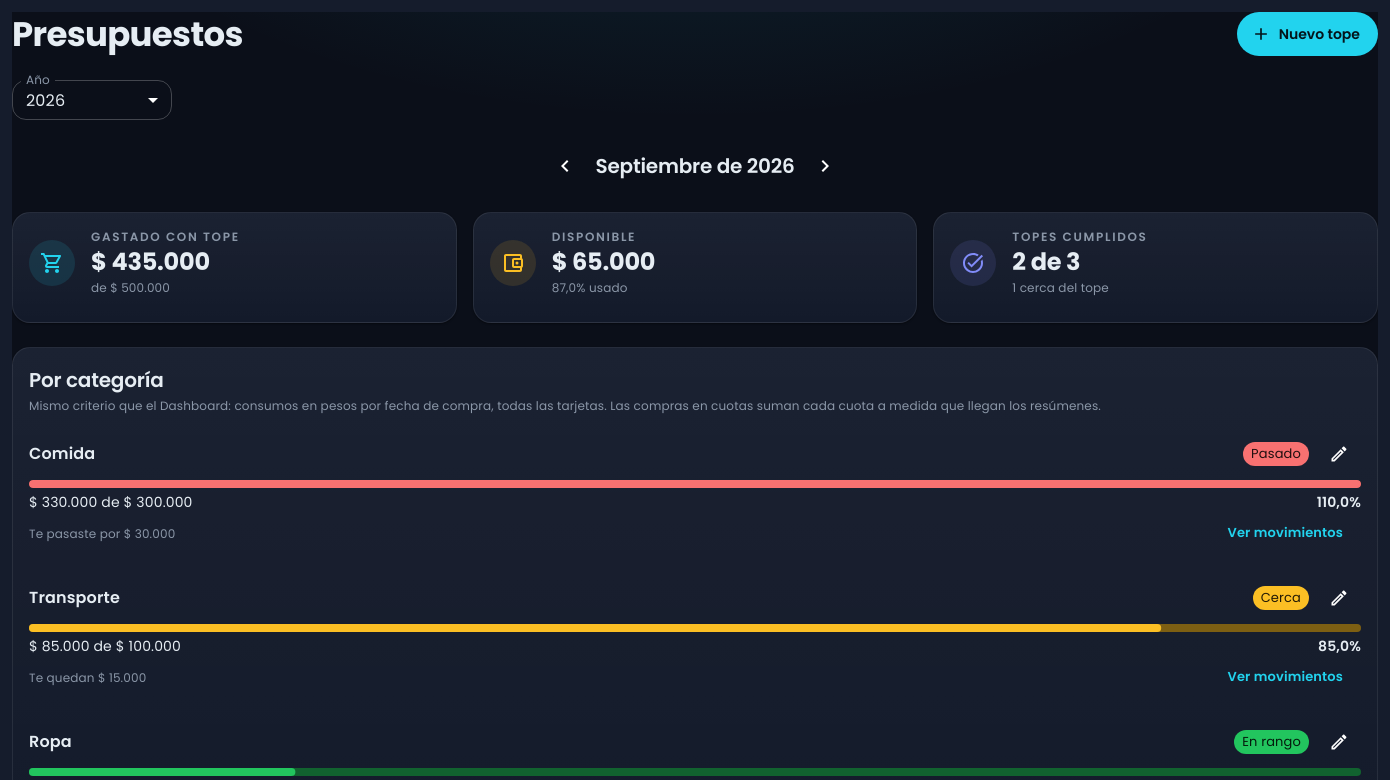
BudgetsPage › «mes anterior» pasa al mes de antes y se frena en el primero
The width and height of the screenshot is (1390, 780).
Expected: the text "Septiembre de 2026" is shown, x1=595 y1=150 x2=795 y2=182
What coordinates should you click on to do the following:
click the button named "mes anterior"
I would click on:
 (565, 166)
Its box is x1=543 y1=144 x2=587 y2=188.
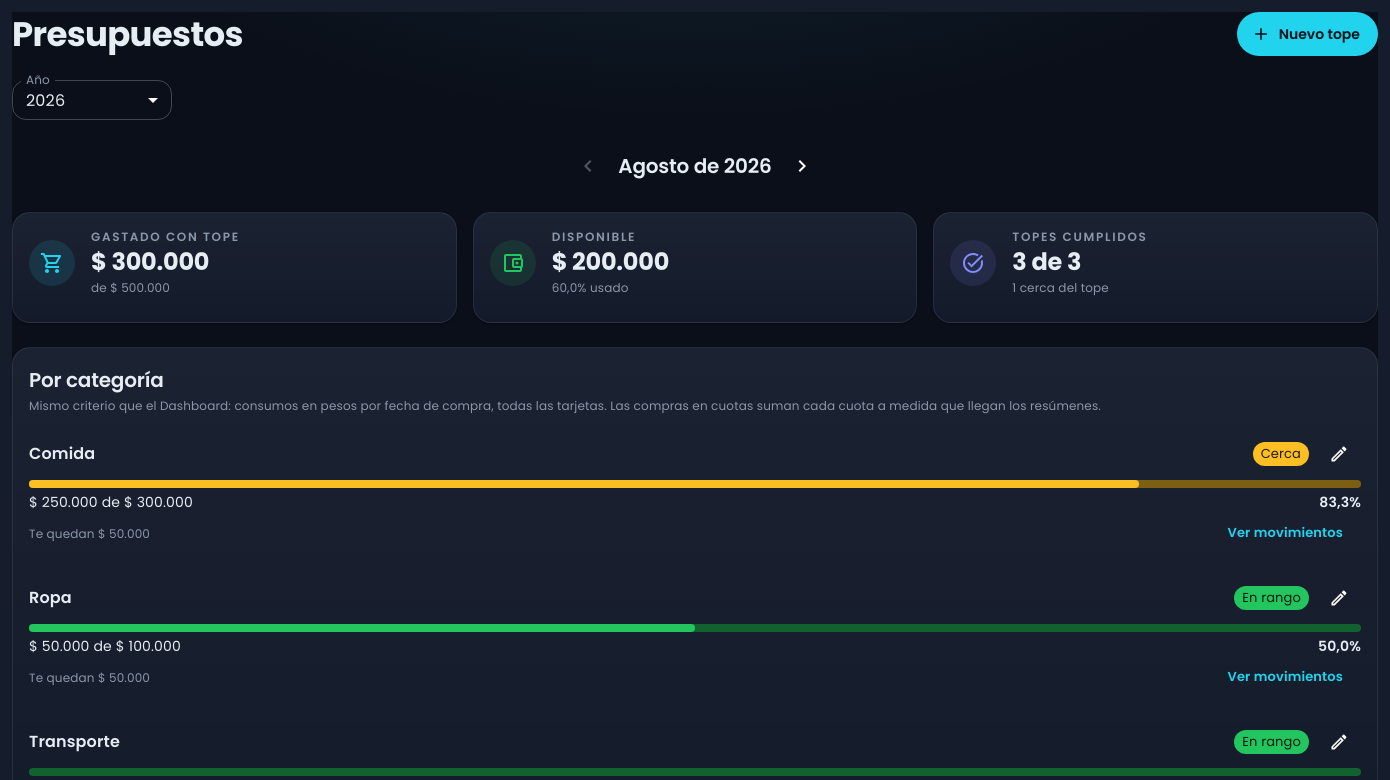
Expected: the text "Agosto de 2026" is shown, x1=618 y1=150 x2=772 y2=182
Expected: the button named "mes anterior" is disabled, x1=566 y1=144 x2=610 y2=188
